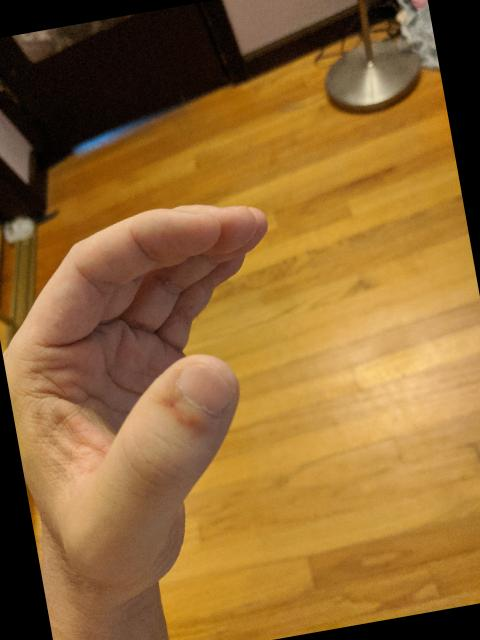C: (0, 183, 332, 616)
